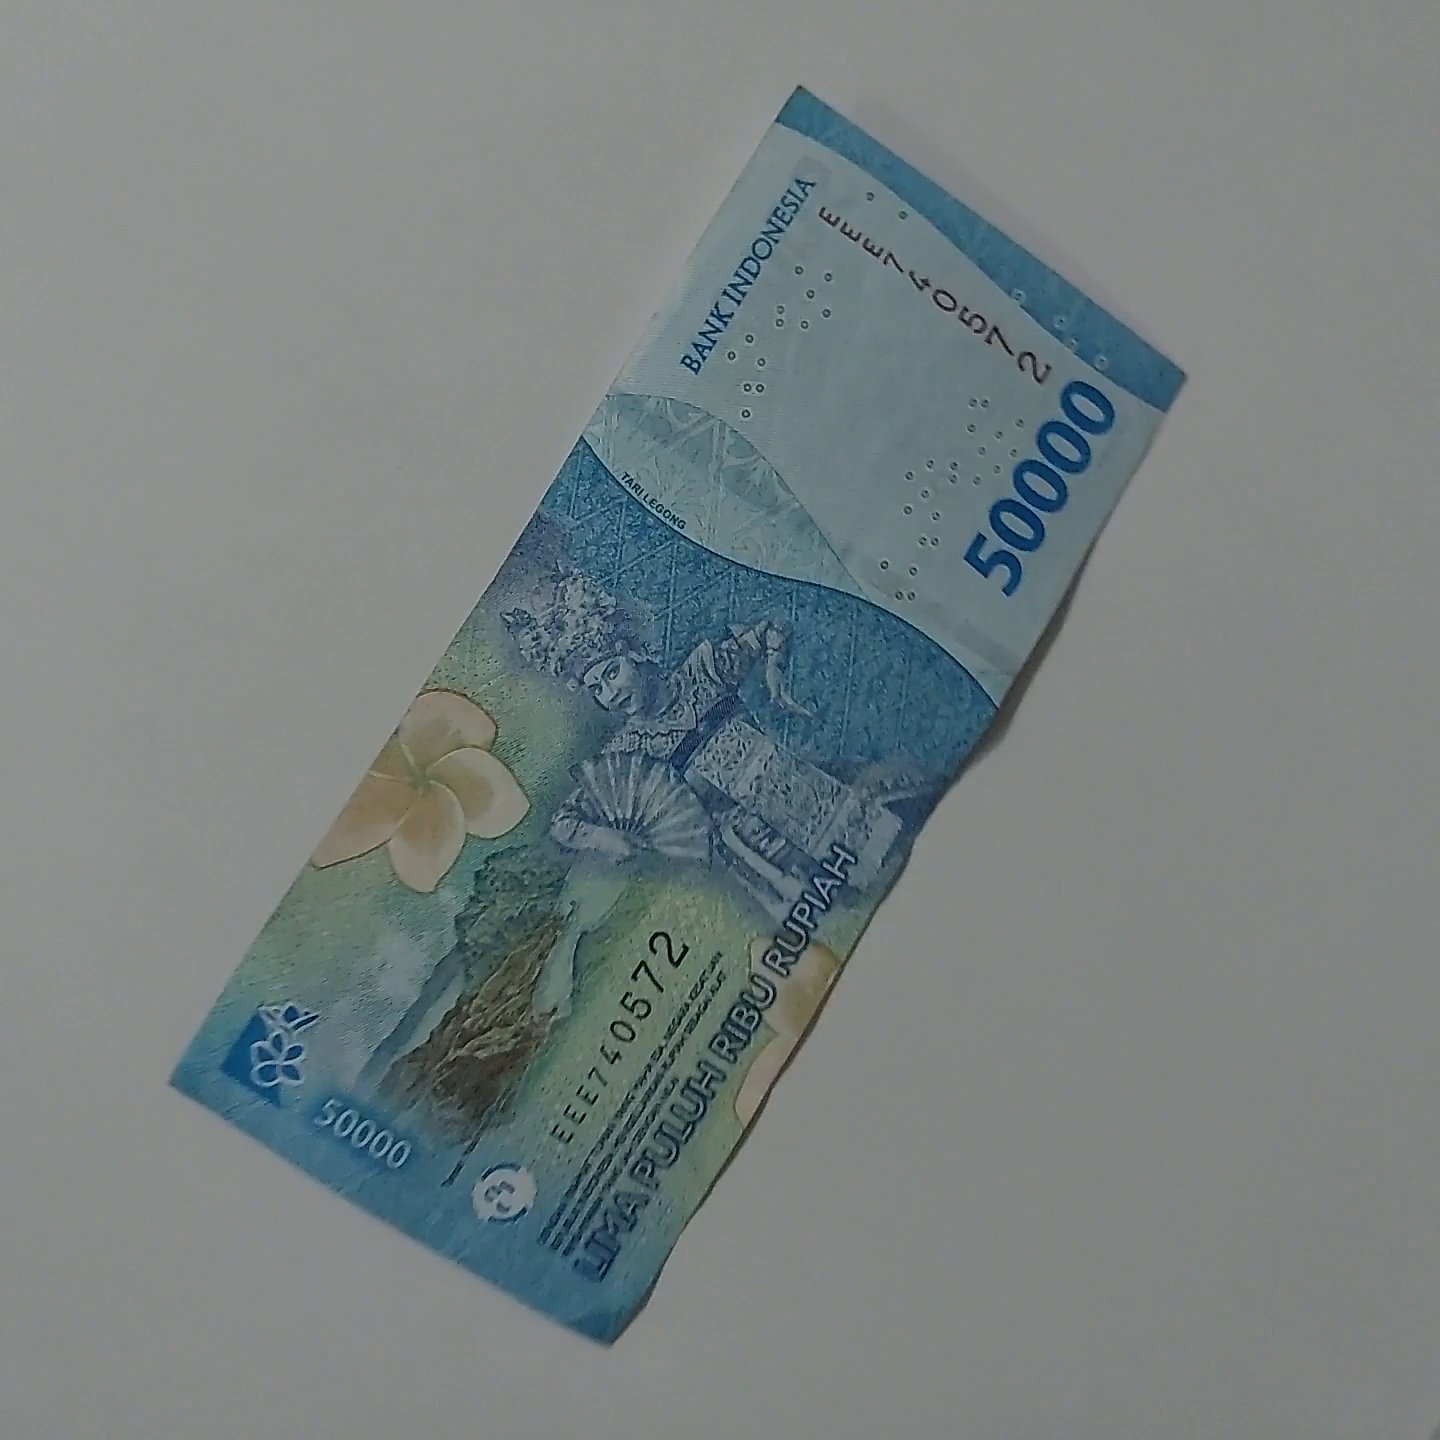50k: (848, 53, 1354, 1267)
